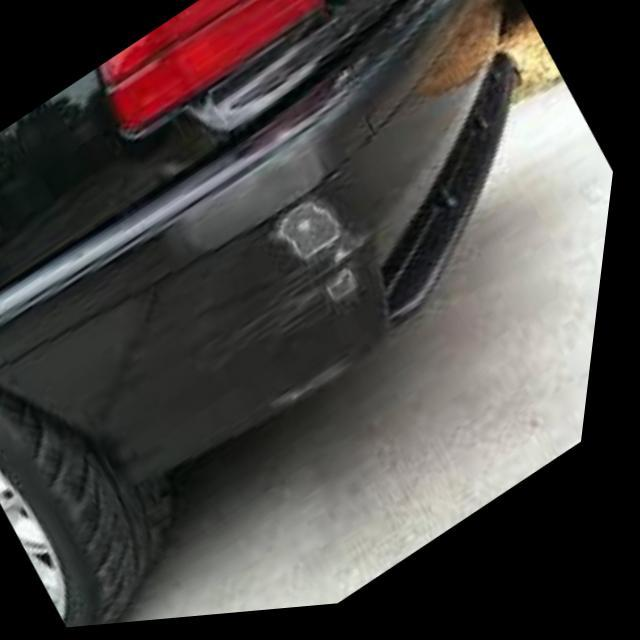rub: (202, 202, 371, 368)
